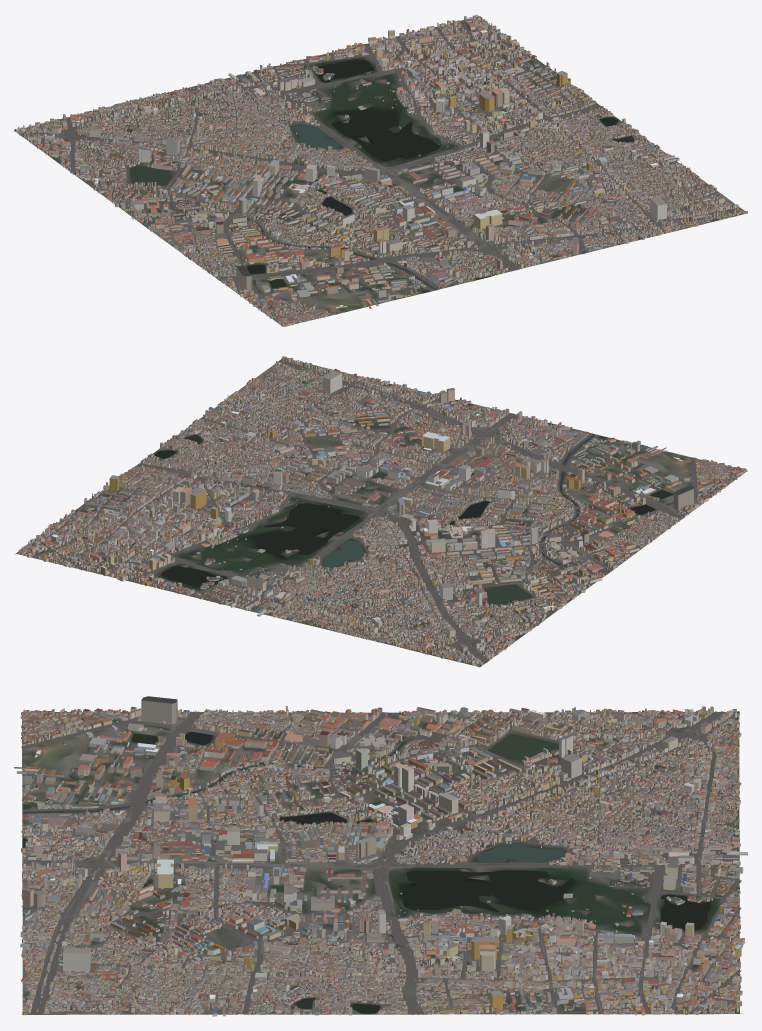
3 views of the same model, one above another, from view 1: azimuth 30°, elevation 25°; view 2: azimuth 150°, elevation 25°; view 3: azimuth 270°, elevation 25° (orthographic). The views are drawn at different scales.
Visible parts, largest first — view 1: buildings, ground, roads, water; view 2: buildings, ground, roads, water; view 3: buildings, ground, roads, water.
Part boxes in pixels (x1,y1,x2,y2): buildings: (14,14,747,326); ground: (17,18,745,326); roads: (14,16,744,315); water: (111,59,634,293); buildings: (18,356,746,666); ground: (16,359,747,666); roads: (14,359,735,667); water: (154,422,672,625); buildings: (14,696,747,1016); ground: (22,712,739,1014); roads: (21,711,742,1014); water: (22,712,710,1013).
Size of the model in its own units: 2834 by 98.96 by 2869.
